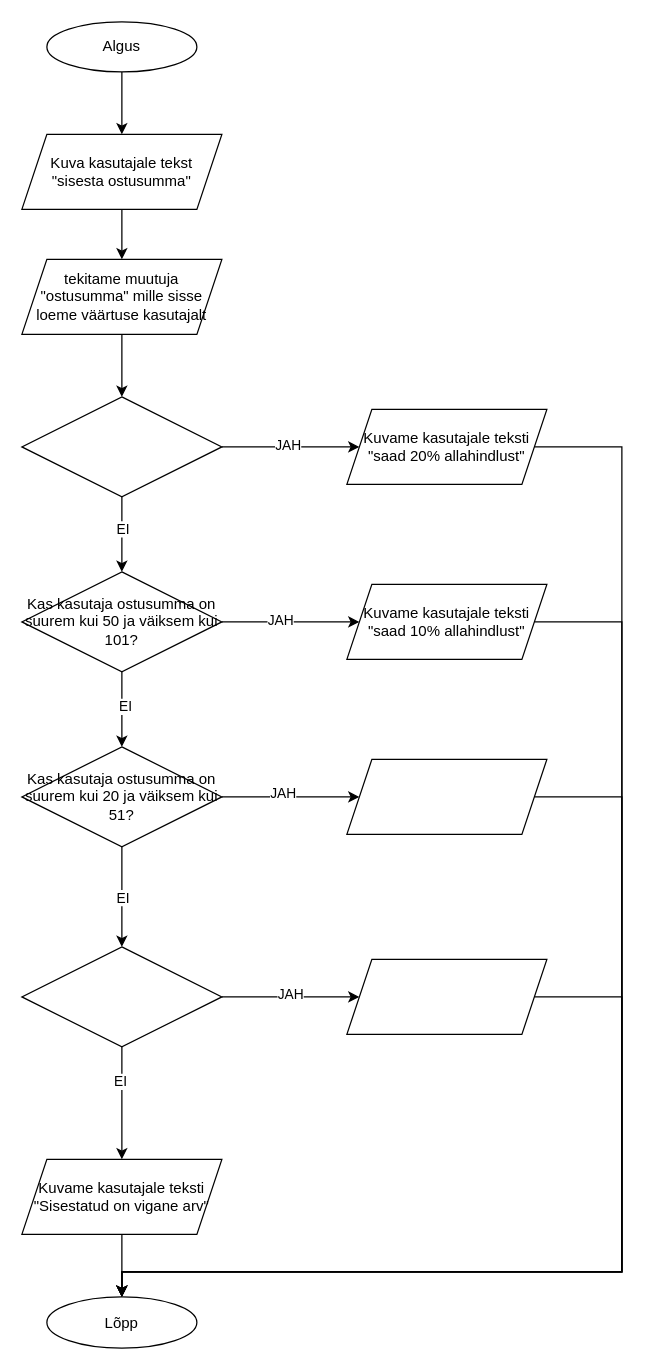
Image size: 654x1370. Some labels were removed from this diagram. Here are the shapes that lost their labels. From the top down, the centre of each, then its label:
[121,446]: Kas kasutaja ostusumma on suurem kui 100?
[446,796]: Kuvame kasutajale teksti "saad 5% allahindlust"
[121,996]: Kas kasutaja ostusumma on suurem kui 0 ja väiksem kui 21?
[446,996]: Kuvame kasutajale teksti "allahindlust ei saa"
